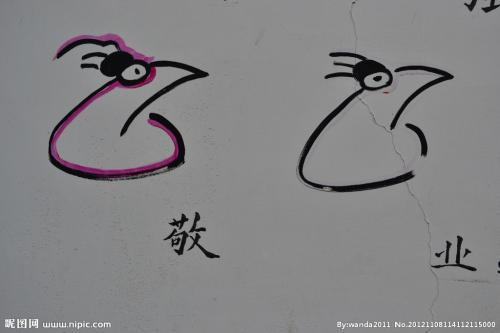chinese: (162, 205, 224, 266), (430, 229, 481, 275)
naxi: (40, 27, 213, 186), (297, 40, 454, 198)
